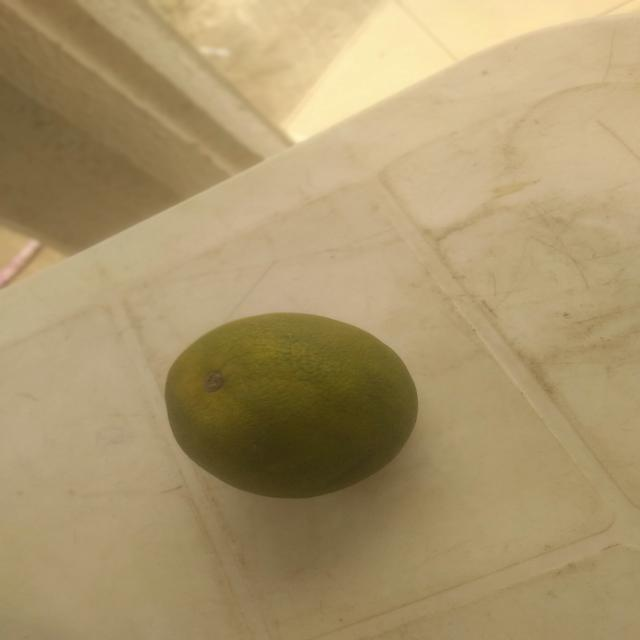Unripe: (133, 304, 447, 518)
